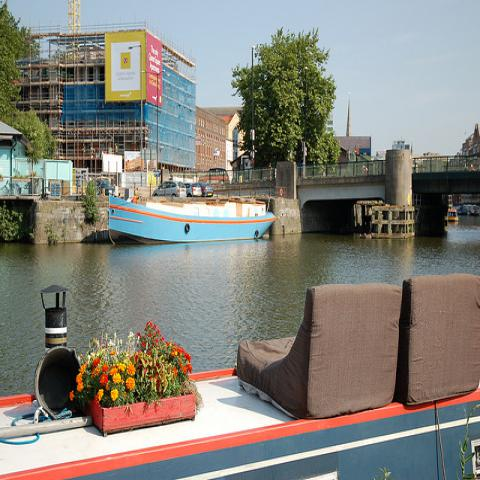car: (153, 181, 187, 198), (198, 169, 232, 185), (193, 182, 214, 196), (184, 182, 204, 196), (96, 179, 114, 194)
